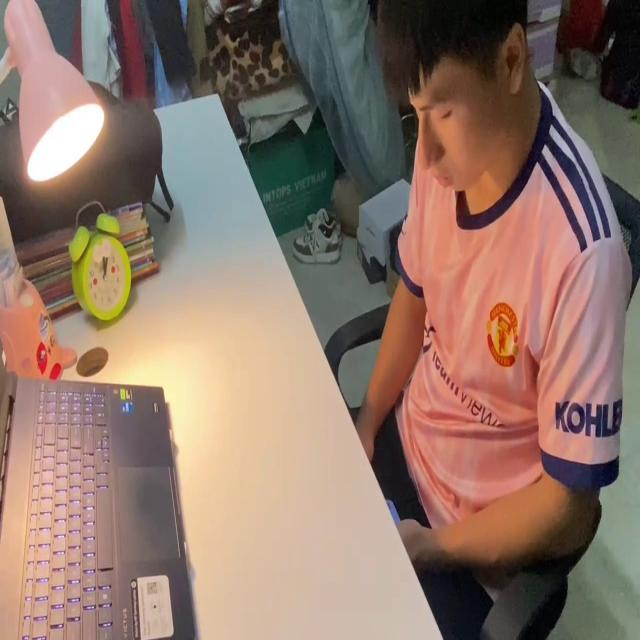laptop: (0, 335, 202, 640)
student: (352, 0, 626, 573)
